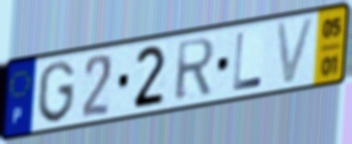2: (132, 43, 170, 111), (79, 52, 114, 121)
G: (36, 58, 77, 125)
L: (231, 30, 265, 94)
R: (173, 35, 218, 104)
V: (273, 14, 318, 89)
